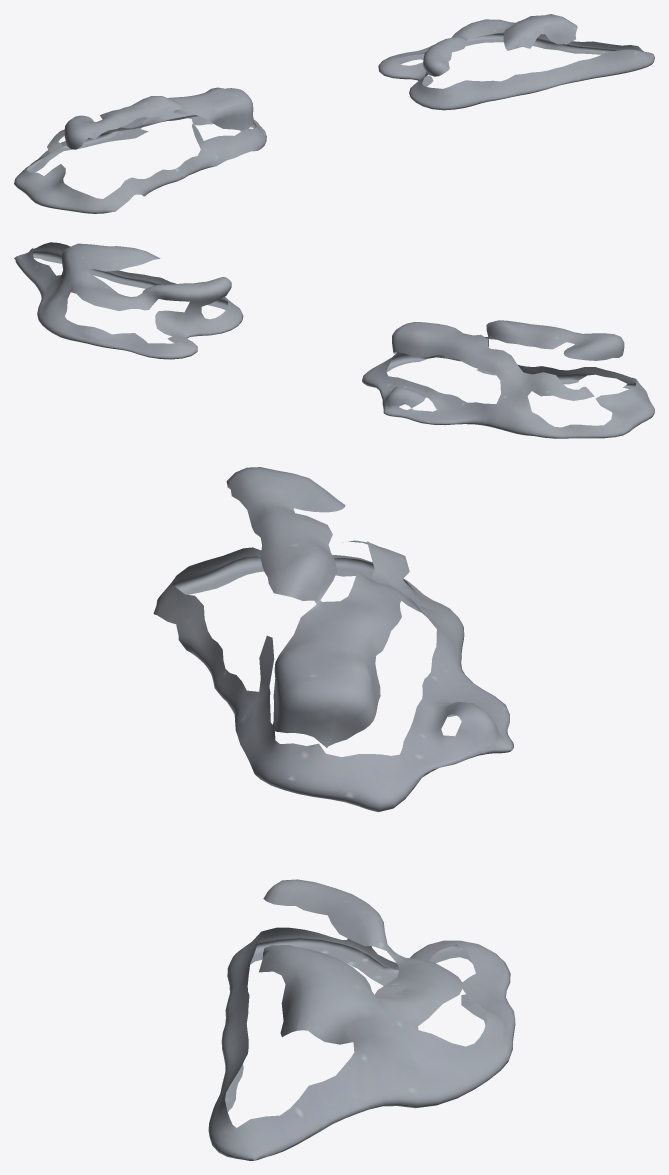
Rendered from pref_sm_beach_winter_snowrock01_lv3.fbx.
The picture shows the model from 3 angles, top to bottom: view 1: azimuth 30°, elevation 25°; view 2: azimuth 150°, elevation 25°; view 3: azimuth 270°, elevation 25°; orthographic projection. The views are drawn at different scales.
Parts seen in each view (by area): view 1: pref_sm_beach_winter_snowrock01_lv3; view 2: pref_sm_beach_winter_snowrock01_lv3; view 3: pref_sm_beach_winter_snowrock01_lv3.
Part boxes in pixels (<box>): pref_sm_beach_winter_snowrock01_lv3: <box>14,14,654,213</box>; pref_sm_beach_winter_snowrock01_lv3: <box>14,242,654,438</box>; pref_sm_beach_winter_snowrock01_lv3: <box>153,467,515,1160</box>.
Size of the model in its own units: 16.82 by 1.91 by 4.28.
